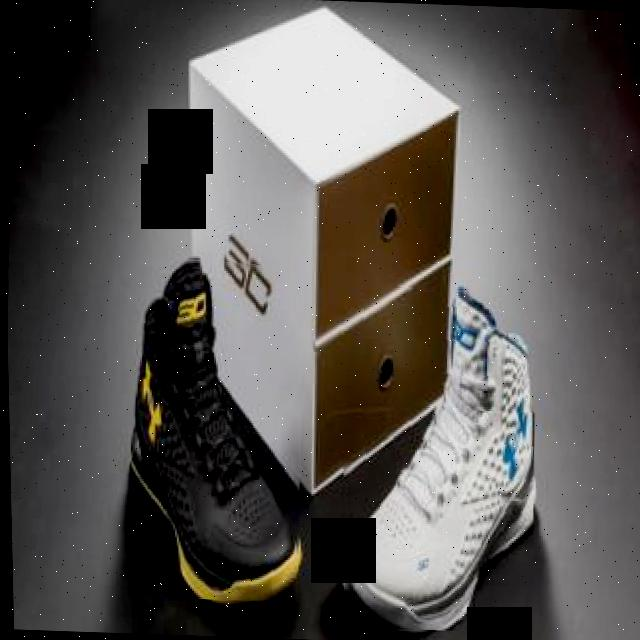shoe: (326, 282, 541, 634), (118, 254, 309, 602)
